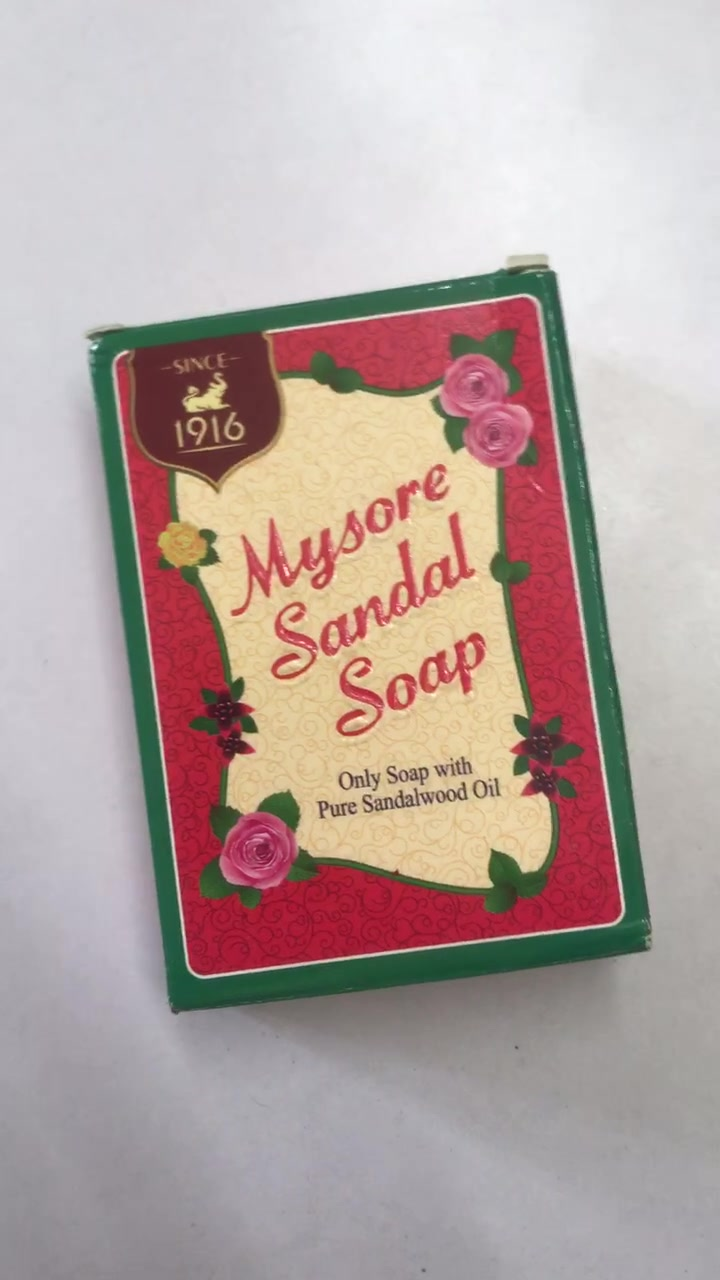mysore sandal soap: (92, 280, 646, 1009)
